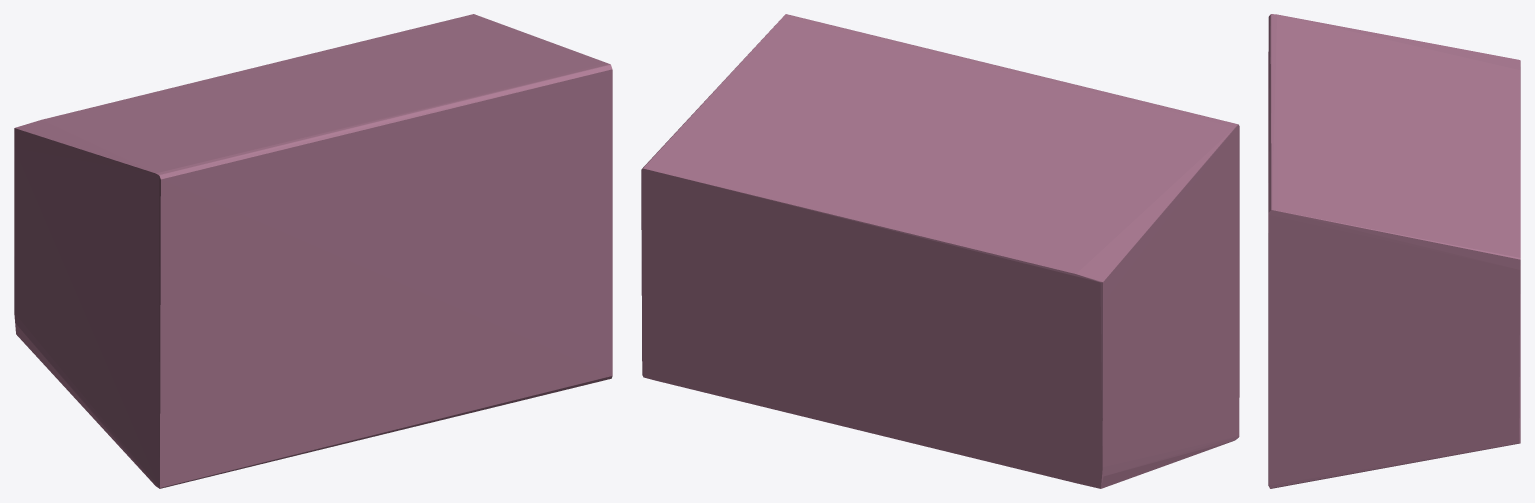
The model's file is table_packing_heavyduty_c01.glb.
3 views of the same model, side by side, from view 1: azimuth 30°, elevation 25°; view 2: azimuth 150°, elevation 25°; view 3: azimuth 270°, elevation 25° (orthographic). The views are drawn at different scales.
Parts seen in each view (by area): view 1: geometry_0; view 2: geometry_0; view 3: geometry_0.
Part boxes in pixels (bbox=[...]): geometry_0: bbox=[14, 14, 612, 488]; geometry_0: bbox=[641, 14, 1239, 488]; geometry_0: bbox=[1268, 14, 1520, 488].
Bounding box in the file's own units: 0.48 × 0.3117 × 0.2555.
